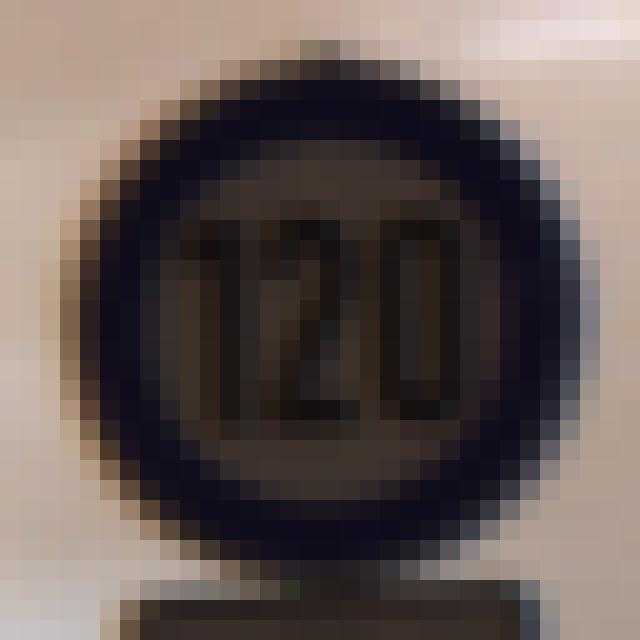SPEED LIMIT 120: (69, 59, 569, 540)
